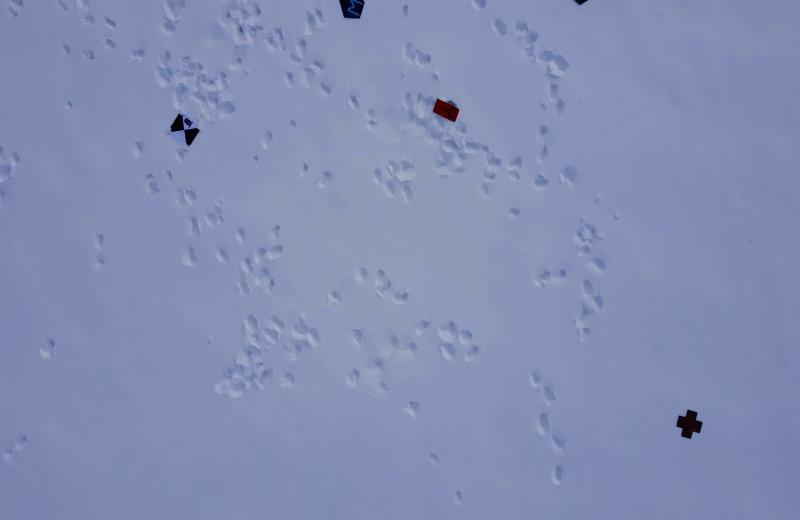Cross: (673, 405, 702, 442)
Pentagon: (338, 0, 366, 24)
Rectangle: (429, 91, 462, 121)
